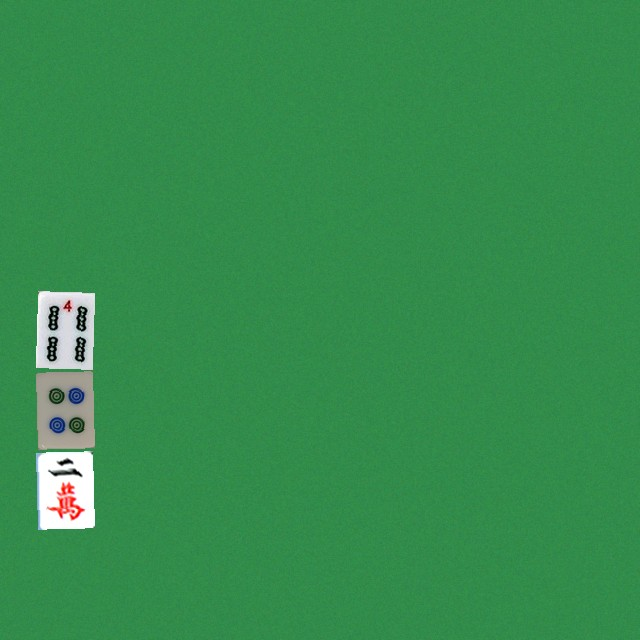tile: (35, 291, 92, 368), (35, 371, 92, 448), (35, 451, 92, 528)
